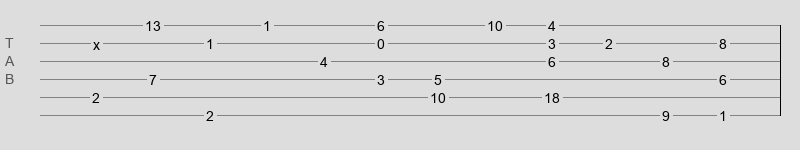0: (377, 36, 385, 46)
1: (206, 36, 214, 46), (263, 18, 271, 28), (719, 108, 727, 118)
10: (430, 90, 446, 100), (487, 18, 503, 28)
13: (145, 18, 161, 28)
18: (544, 90, 560, 100)
2: (92, 90, 100, 100), (206, 108, 214, 118), (605, 36, 613, 46)
3: (377, 72, 385, 82), (548, 36, 556, 46)
4: (320, 54, 328, 64), (548, 18, 556, 28)
5: (434, 72, 442, 82)
6: (377, 18, 385, 28), (548, 54, 556, 64), (719, 72, 727, 82)
7: (149, 72, 157, 82)
8: (662, 54, 670, 64), (719, 36, 727, 46)
9: (662, 108, 670, 118)
x: (93, 37, 100, 45)
